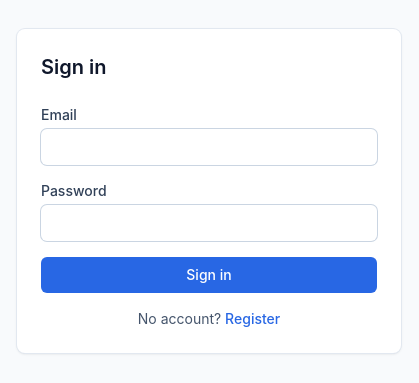
Test: LoginPage › requires a password
This screenshot has width=419, height=383.
Type "admin@example.com" into the field labelled "Email".
click(209, 147); type("admin@example.com")  # box [41,129,377,165]
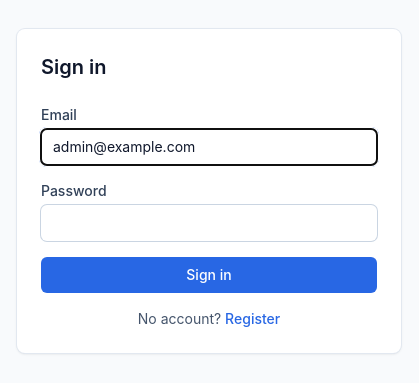
Click the button "Sign in".
click(209, 275)  # box [41,257,377,293]
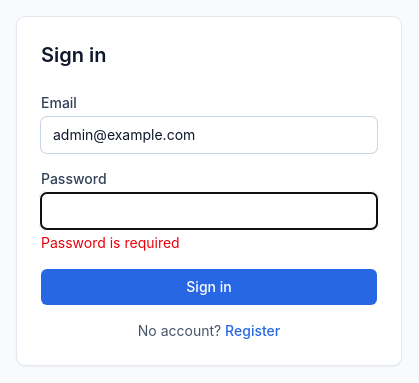
Expected: the text "Password is required" is shown, [41,234,180,251]
